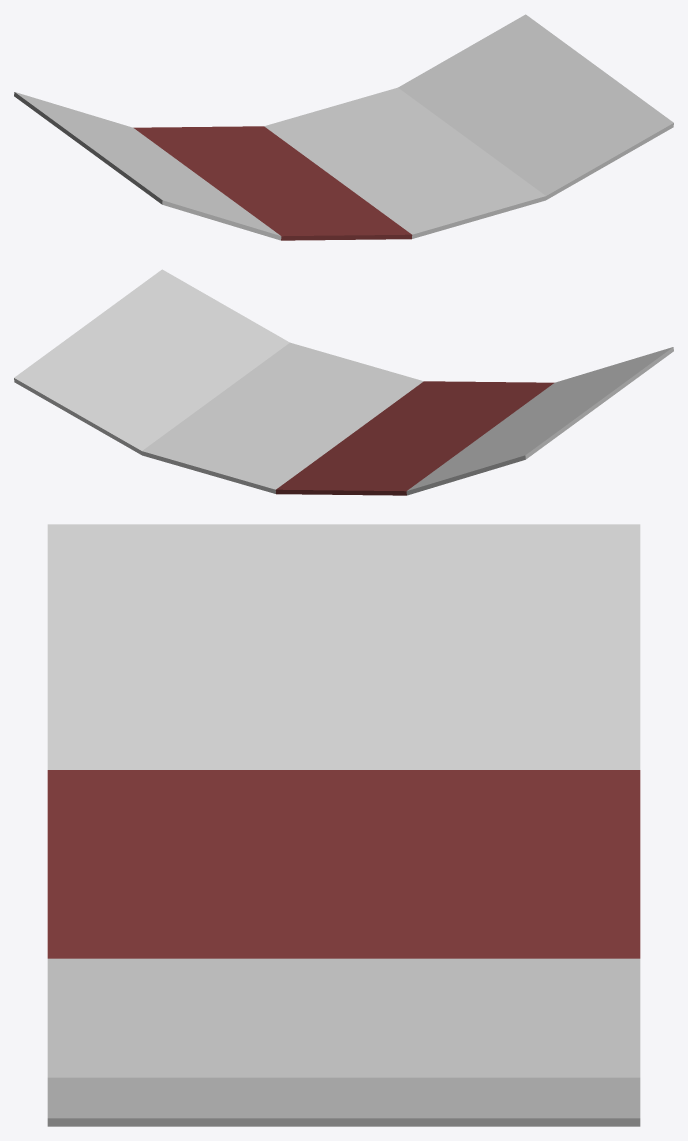
File: TrashShieldSmall.dae
The picture shows the model from 3 angles, top to bottom: view 1: azimuth 30°, elevation 25°; view 2: azimuth 150°, elevation 25°; view 3: azimuth 270°, elevation 25°; orthographic projection. The views are drawn at different scales.
Parts seen in each view (by area): view 1: TrashShopShieldSmall; view 2: TrashShopShieldSmall; view 3: TrashShopShieldSmall.
Part boxes in pixels (x1,y1,x2,y2): TrashShopShieldSmall: (14, 14, 673, 240); TrashShopShieldSmall: (14, 269, 673, 495); TrashShopShieldSmall: (47, 524, 640, 1126).
Bounding box in the file's own units: 1.99 × 1 × 0.3712.
